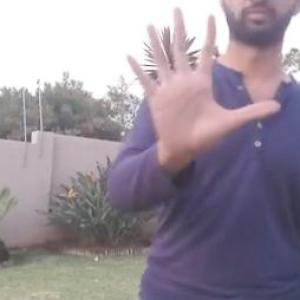follow_hand: (121, 1, 281, 157)
